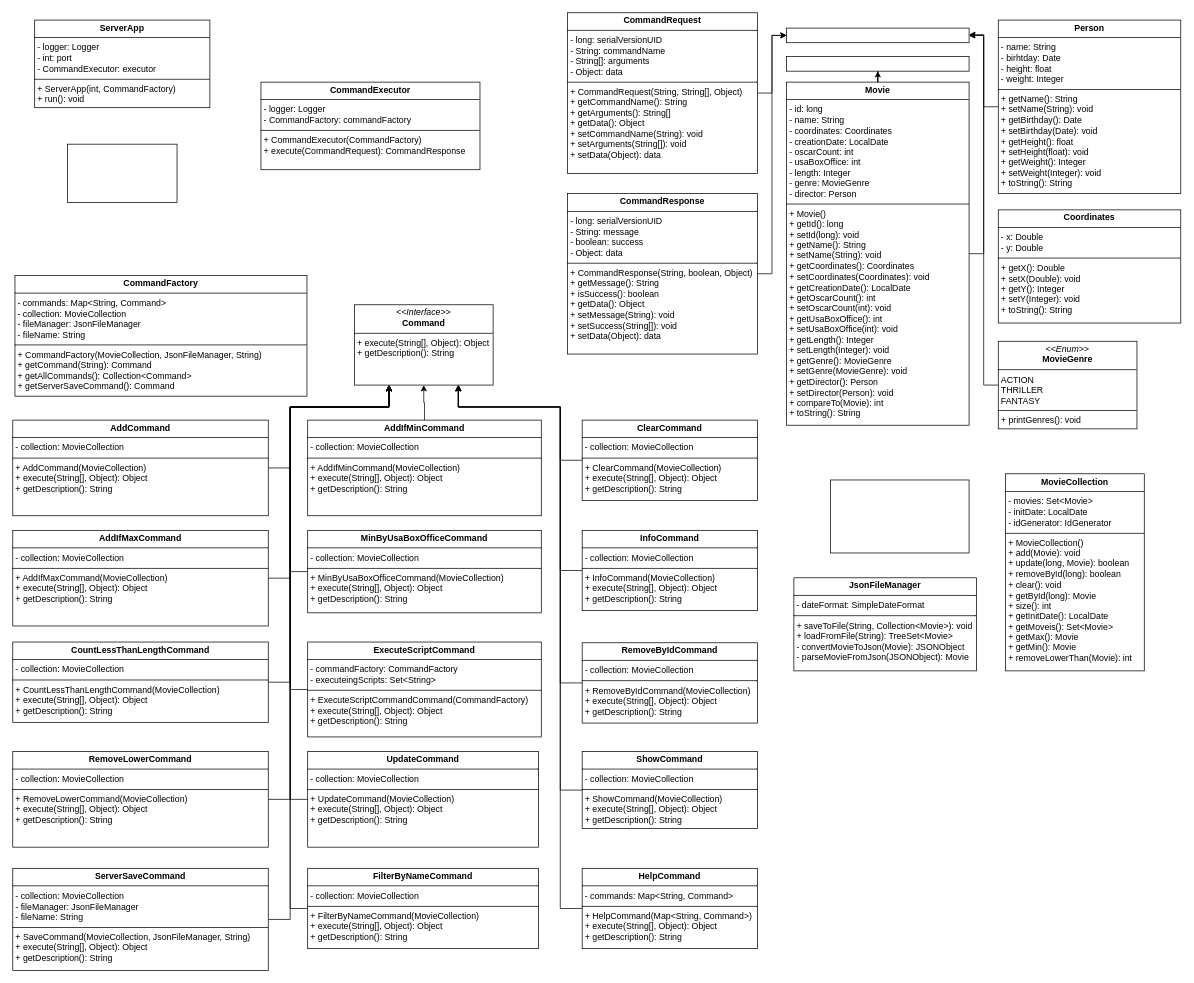
Some shapes in this 1194 by 983 pixel diagram are drawn without their labels. Here are the shapes that lost their labels. From the top down, the box of each, then its label:
(786, 27, 969, 43): Serializable
(786, 56, 969, 71): Comparable<T>
(67, 143, 177, 203): ServerMain - logger: Logger + main(String[]): void
(830, 479, 969, 553): IdGenerator - currentId: long + getNextID(): long + setCurrentId(id): void
